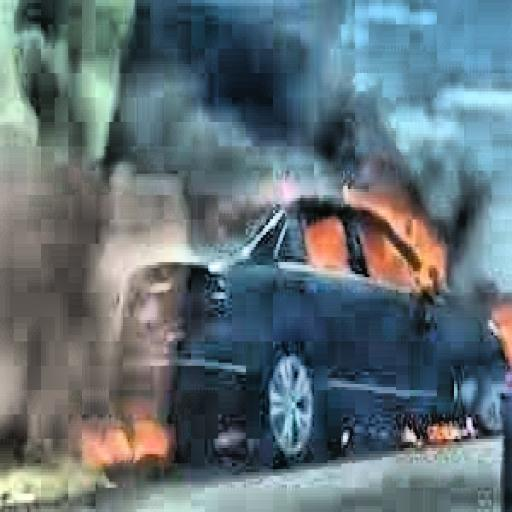fire: (299, 152, 447, 299), (75, 393, 184, 476), (406, 396, 483, 460), (483, 278, 510, 348)
